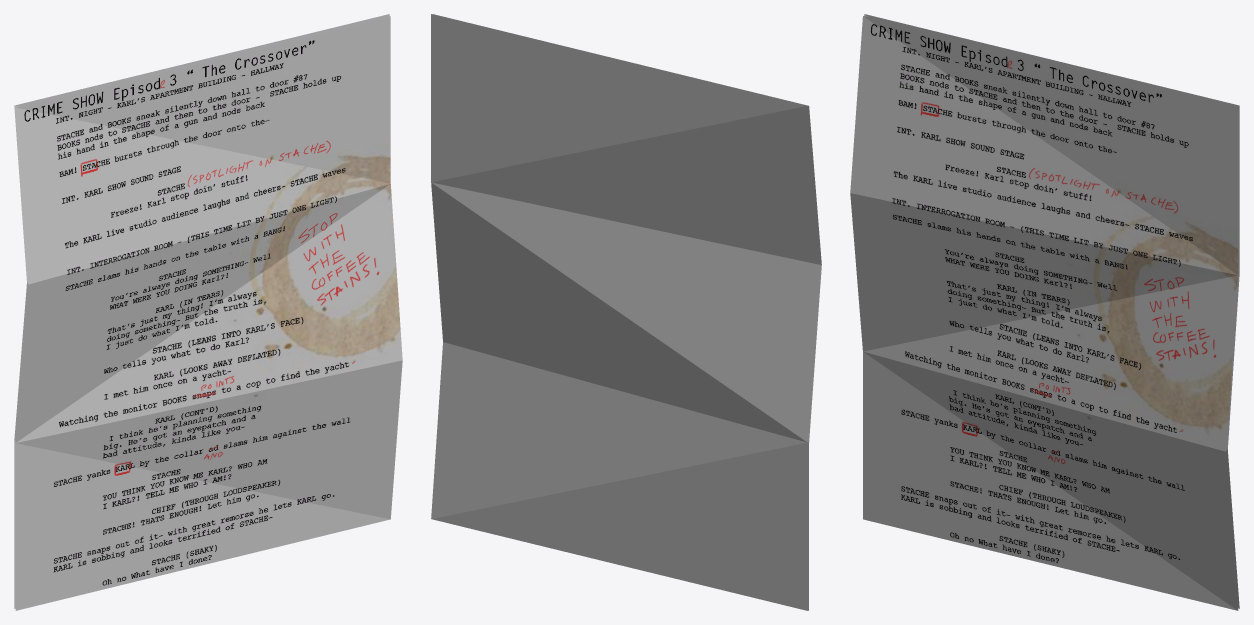
Rendered from crime show 3.glb.
3 renders of one model, left to right at view 1: azimuth 30°, elevation 25°; view 2: azimuth 150°, elevation 25°; view 3: azimuth 330°, elevation 25°, orthographic.
Visible parts, largest first — view 1: Hunter Note; view 2: Hunter Note; view 3: Hunter Note.
Boxes of the visible parts, left/top/right/bottom form: Hunter Note: left=14, top=14, right=402, bottom=610; Hunter Note: left=431, top=14, right=821, bottom=610; Hunter Note: left=850, top=14, right=1239, bottom=610.
Size of the model in its own units: 0.2631 by 0.3378 by 0.0171.
1 material, 1 textured.
